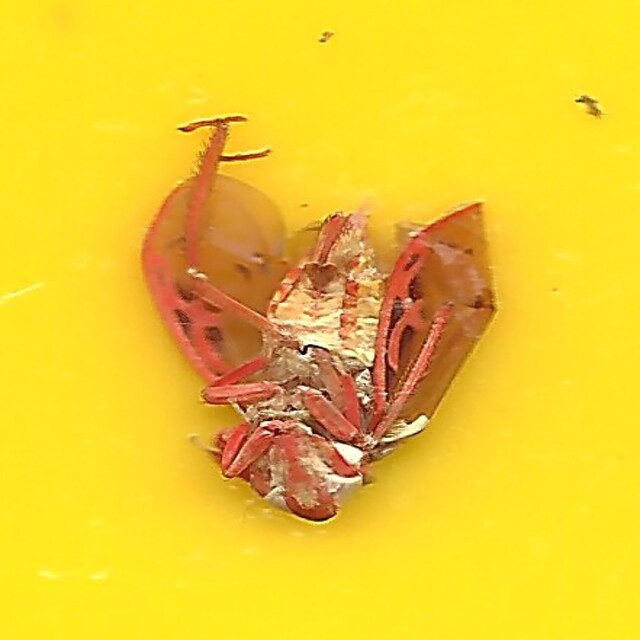Hemiptera: (145, 118, 495, 522)
